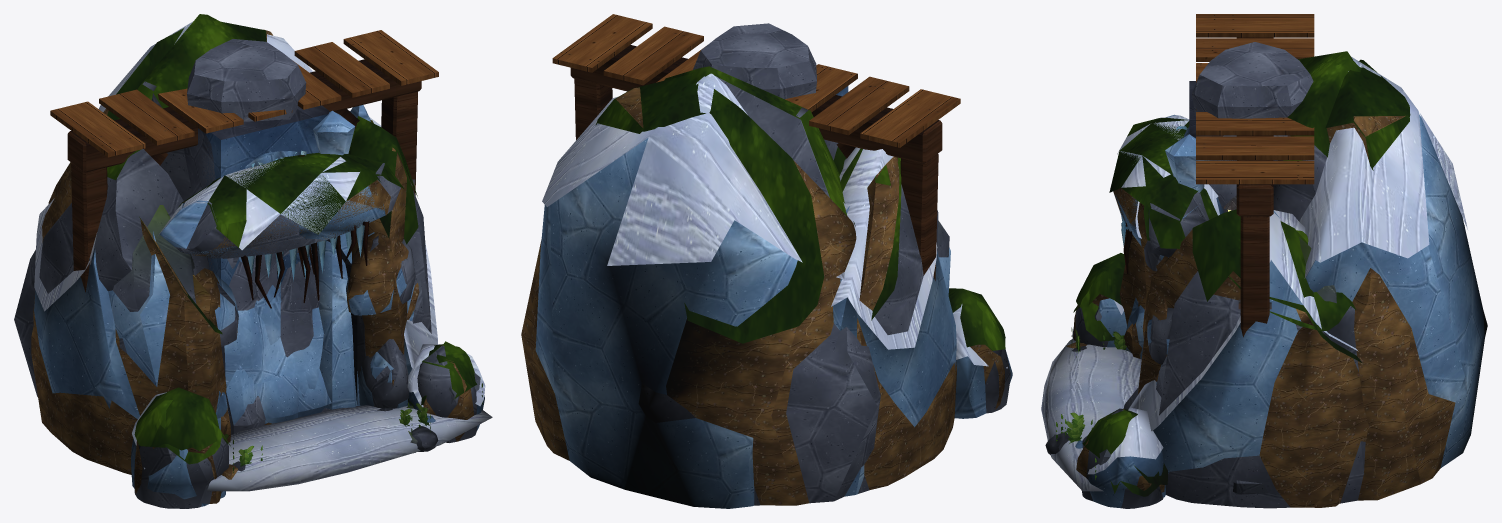
Rendered from kit_cave.glb.
3 renders of one model, left to right at view 1: azimuth 30°, elevation 25°; view 2: azimuth 150°, elevation 25°; view 3: azimuth 270°, elevation 25°, orthographic. The views are drawn at different scales.
Visible parts, largest first — view 1: cave_mouth_ice_mesh, cave_mouth_mesh, cave_mouth_mud_mesh, cave_mine_support_mesh, cave_wall_ice_inner_mesh, cave_pillar_mesh, cave_wall_ice_mesh, cave_mouth_ice_lod1_mesh, cave_mouth_lod1_mesh, cave_wall_mesh, cave_wall_corner_mesh, cave_wall_ice_b_mesh (+4 smaller); view 2: cave_mouth_ice_mesh, cave_mouth_mud_mesh, cave_mouth_mesh, cave_mine_support_mesh, cave_pillar_mesh; view 3: cave_mouth_ice_mesh, cave_mouth_mud_mesh, cave_mouth_mesh, cave_mine_support_mesh, cave_pillar_mesh, cave_wall_ice_inner_mesh, cave_mouth_lod1_mesh, cave_mouth_mud_lod1_mesh.
Boxes of the visible parts, x1,y1,x2,y2 form: cave_mouth_ice_mesh: (34, 21, 492, 506); cave_mouth_mesh: (14, 14, 482, 508); cave_mouth_mud_mesh: (31, 21, 477, 503); cave_mine_support_mesh: (50, 30, 438, 292); cave_wall_ice_inner_mesh: (198, 110, 360, 409); cave_pillar_mesh: (187, 39, 306, 121); cave_wall_ice_mesh: (224, 150, 306, 423); cave_mouth_ice_lod1_mesh: (108, 105, 414, 429); cave_mouth_lod1_mesh: (113, 205, 480, 453); cave_wall_mesh: (184, 128, 277, 434); cave_wall_corner_mesh: (227, 257, 330, 433); cave_wall_ice_b_mesh: (226, 287, 323, 425); cave_mouth_ice_mesh: (535, 73, 1012, 508); cave_mouth_mud_mesh: (521, 74, 1005, 505); cave_mouth_mesh: (638, 66, 1010, 505); cave_mine_support_mesh: (552, 14, 960, 280); cave_pillar_mesh: (693, 23, 816, 99); cave_mouth_ice_mesh: (1041, 56, 1484, 508); cave_mouth_mud_mesh: (1066, 59, 1464, 507); cave_mouth_mesh: (1045, 51, 1487, 508); cave_mine_support_mesh: (1196, 14, 1314, 494); cave_pillar_mesh: (1192, 42, 1313, 118); cave_wall_ice_inner_mesh: (1165, 134, 1287, 197); cave_mouth_lod1_mesh: (1054, 237, 1336, 465); cave_mouth_mud_lod1_mesh: (1122, 323, 1339, 507).
Size of the model in its own units: 3.18 by 3.3 by 3.39.
Materials: 23 (18 with a texture image).
